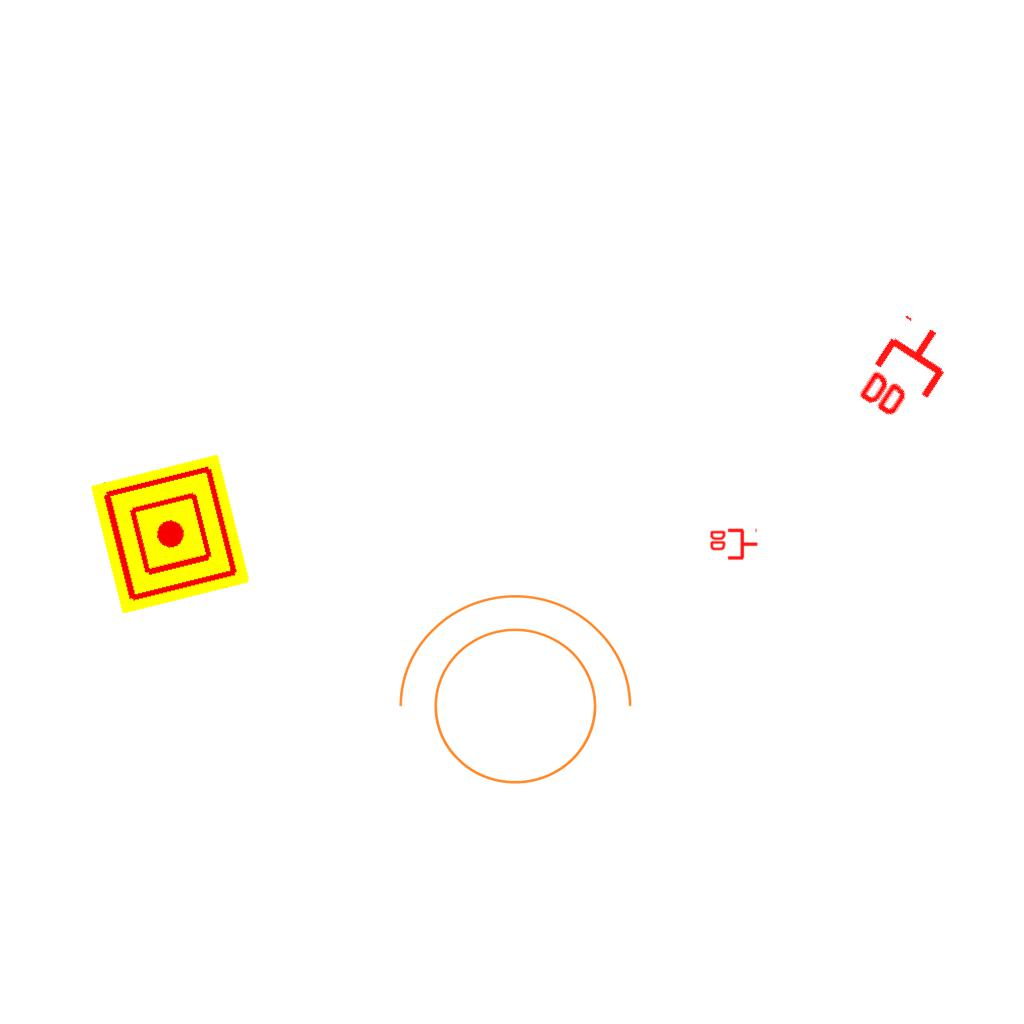Datenanschluss_zweifach: (851, 310, 966, 435), (708, 528, 759, 562)
NAM-Nichtautomatischer_Melder: (89, 453, 251, 615)
Scheinwerfer_fuer_Alarmbeleuchtung: (377, 584, 641, 809)
